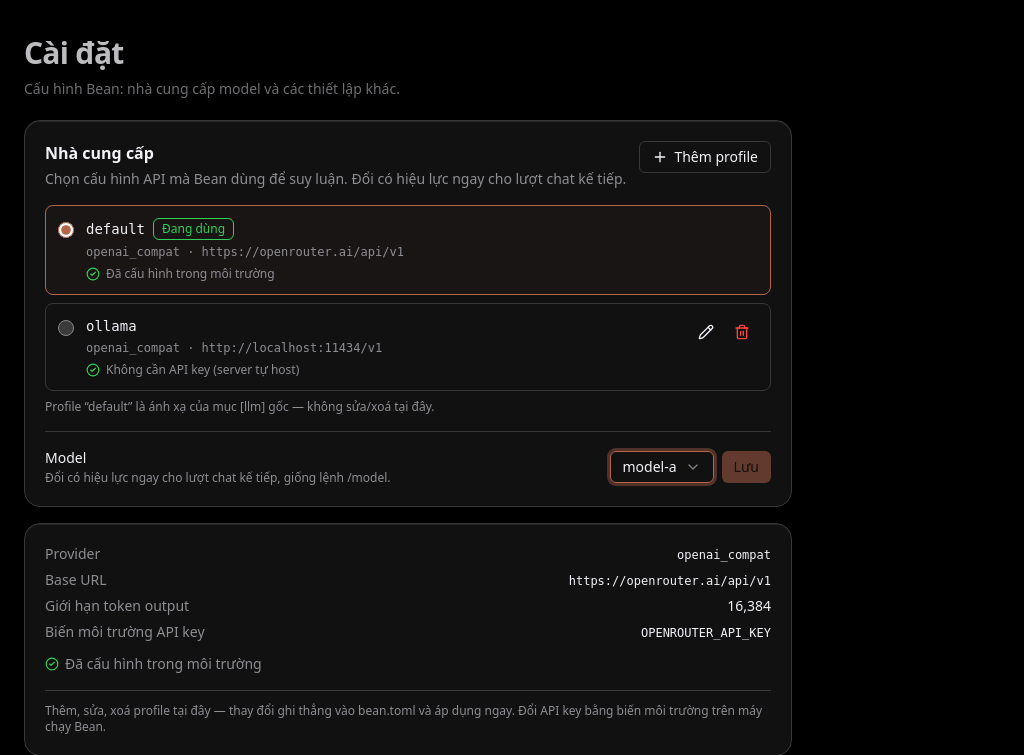
SettingsPage — Providers › model ngoài danh sách bị server từ chối (422): hiện alert lỗi, model không đổi
The image size is (1024, 755).
Press Enter
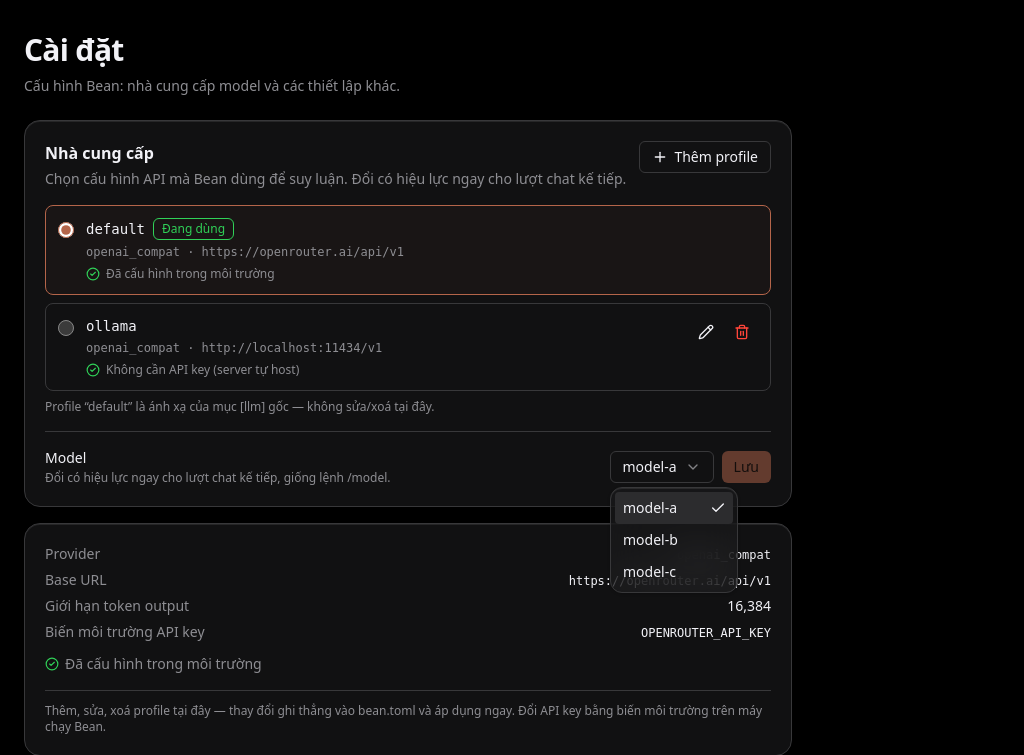
Expected: the option "model-c" is shown
Click the option "model-c" at (649, 572), box left=623, top=562, right=676, bottom=581
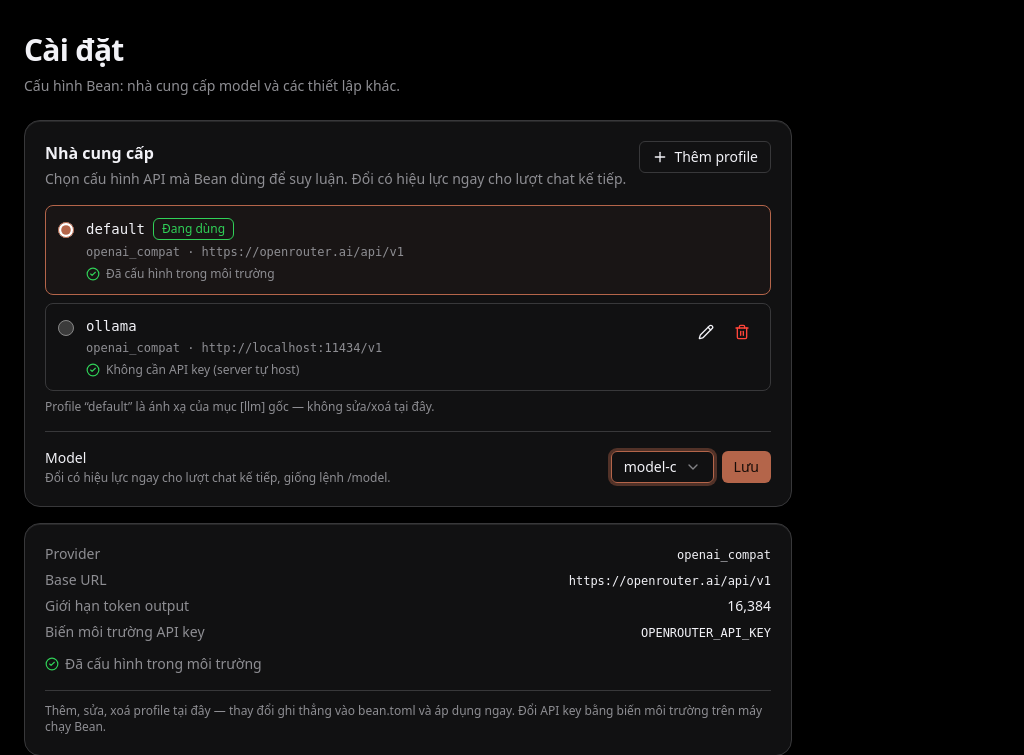
Click the button "Lưu" at (746, 467), box left=722, top=451, right=771, bottom=483
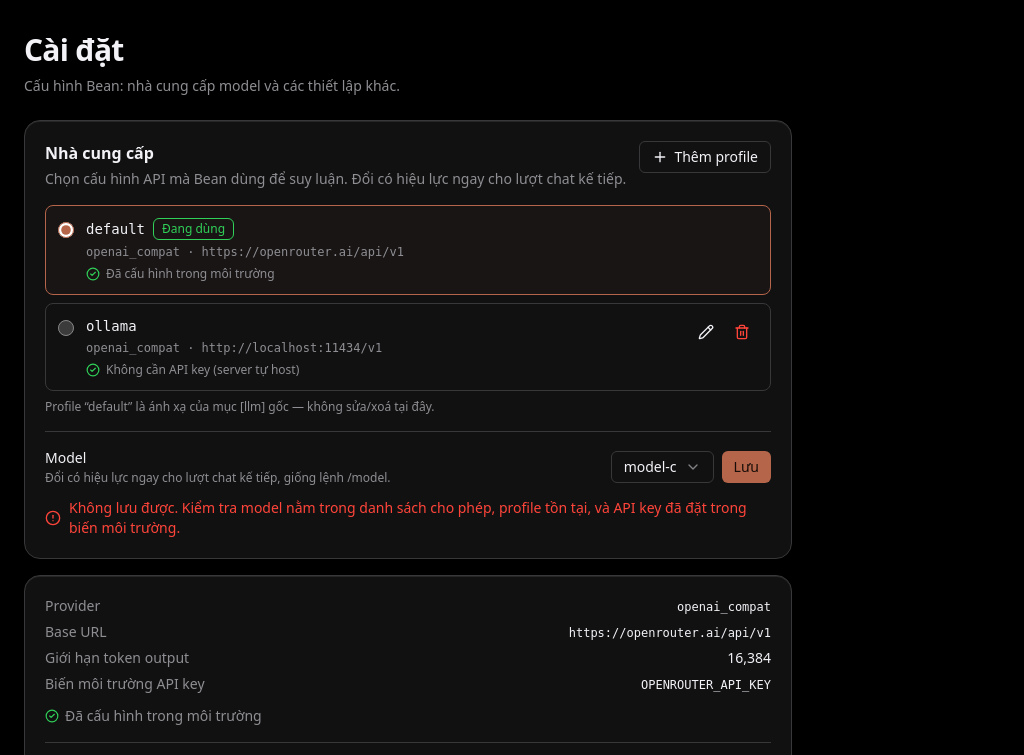
Expected: the message shows "Không lưu được. Kiểm tra model nằm trong danh sách", left=69, top=498, right=747, bottom=537
